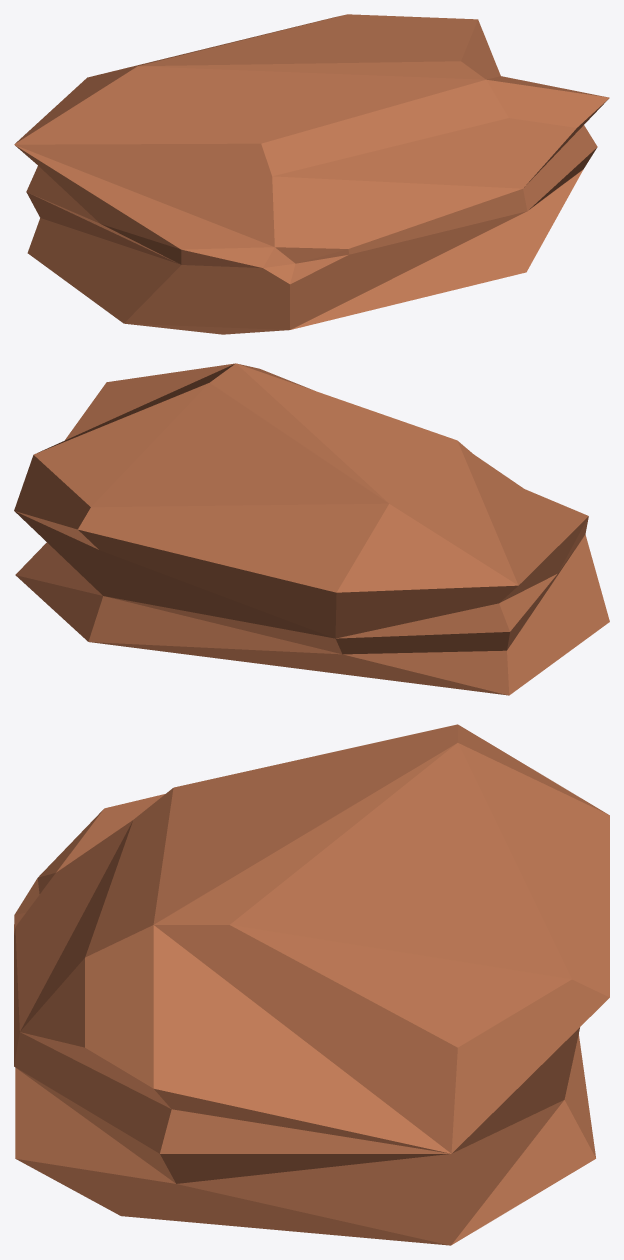
Rendered from Med_Rock_001.fbx.
3 views of the same model, one above another, from view 1: azimuth 30°, elevation 25°; view 2: azimuth 150°, elevation 25°; view 3: azimuth 270°, elevation 25° (orthographic). The views are drawn at different scales.
Visible parts, largest first — view 1: Med_Rock_001; view 2: Med_Rock_001; view 3: Med_Rock_001.
Boxes of the visible parts, x1,y1,x2,y2 form: Med_Rock_001: (14, 14, 609, 334); Med_Rock_001: (14, 363, 609, 695); Med_Rock_001: (14, 724, 609, 1245).
Bounding box in the file's own units: 3.97 × 1.38 × 2.74.
